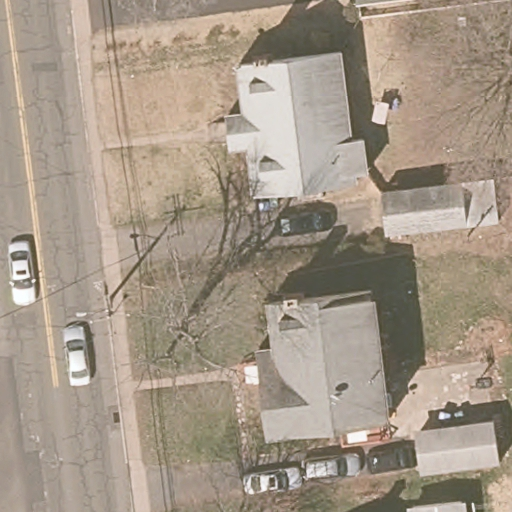DT: (74, 278, 130, 325)
